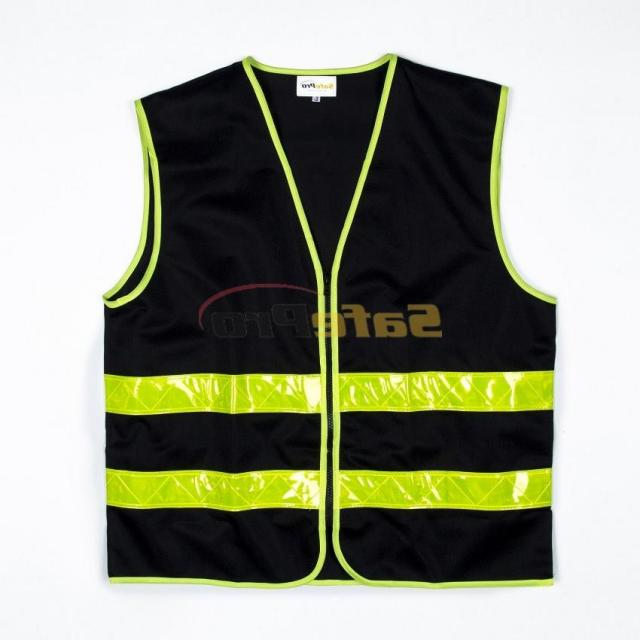Reflective-Jacket: (79, 35, 581, 616)
